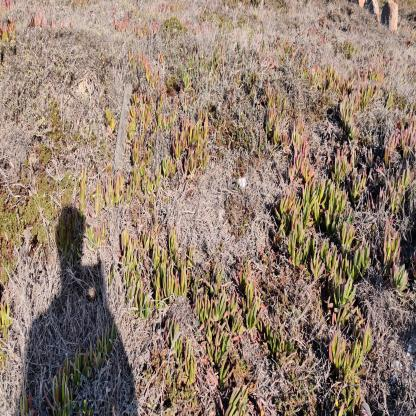trash: (237, 172, 250, 193)
